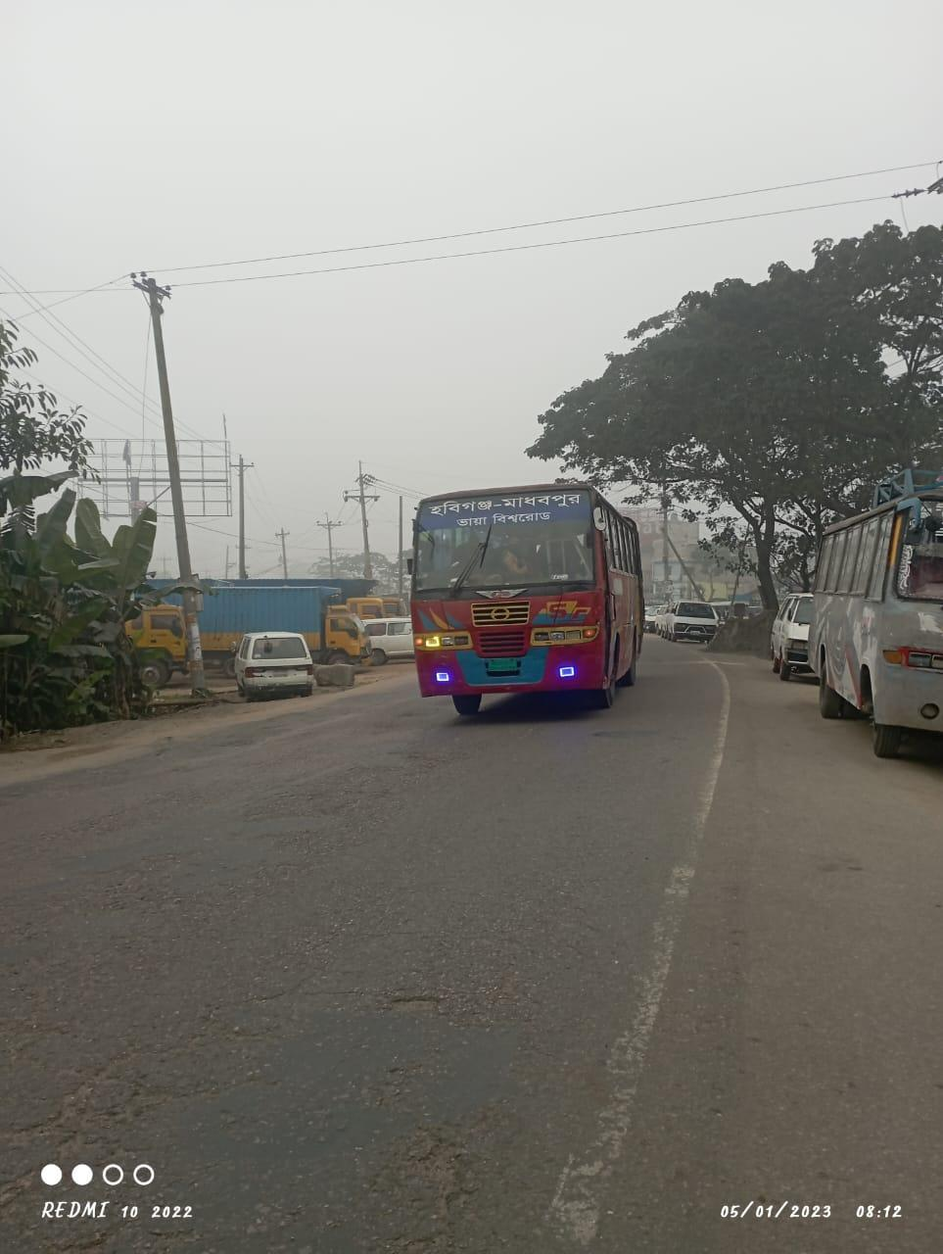Bus: (393, 479, 650, 716), (795, 470, 943, 773)
Car: (228, 622, 325, 697), (659, 591, 725, 647)
Truck: (168, 580, 376, 664)
